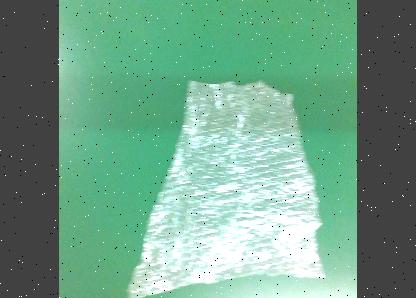Others: (127, 78, 331, 298)
